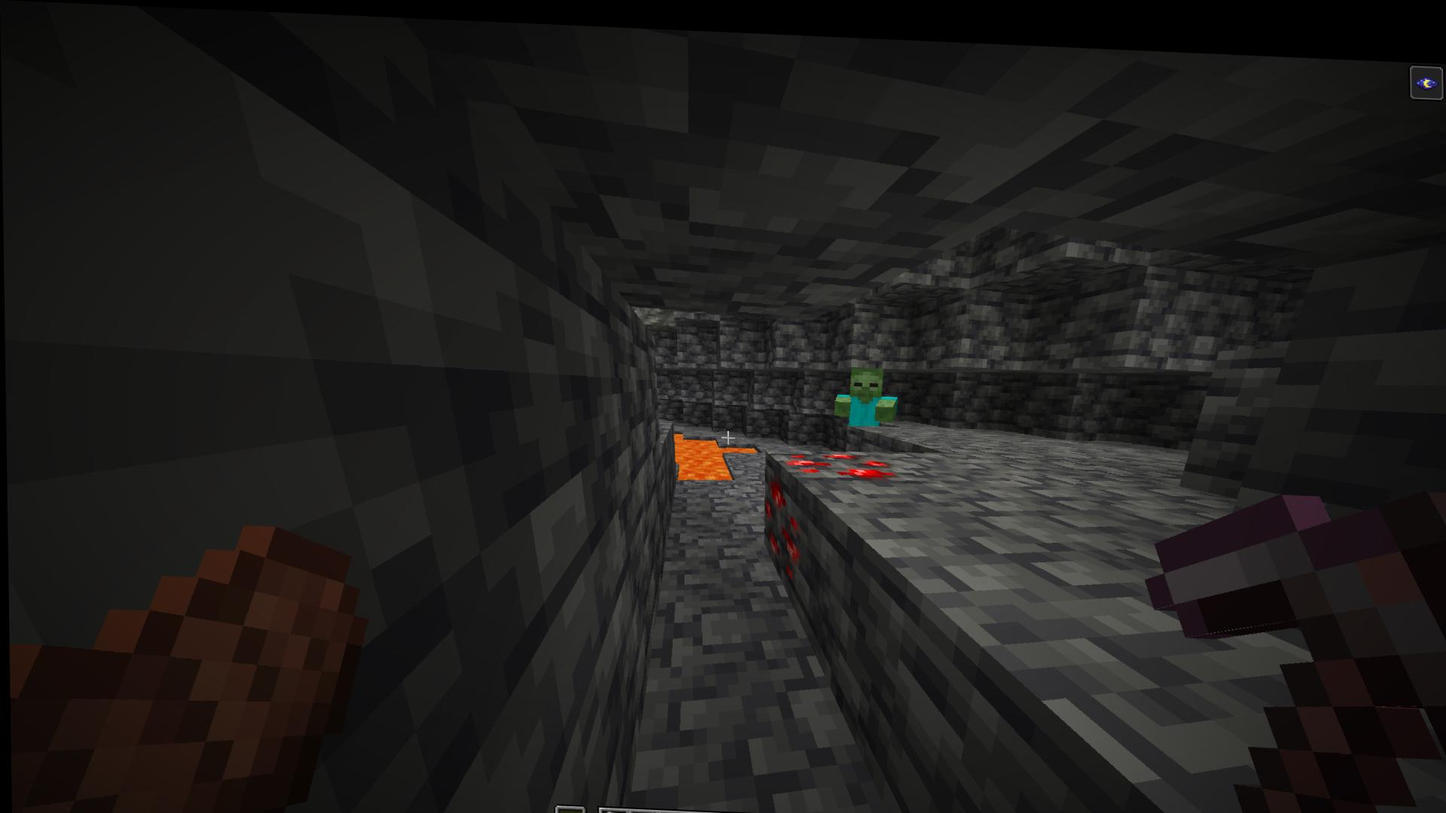redstone ore: (757, 457, 807, 576), (776, 438, 907, 476)
